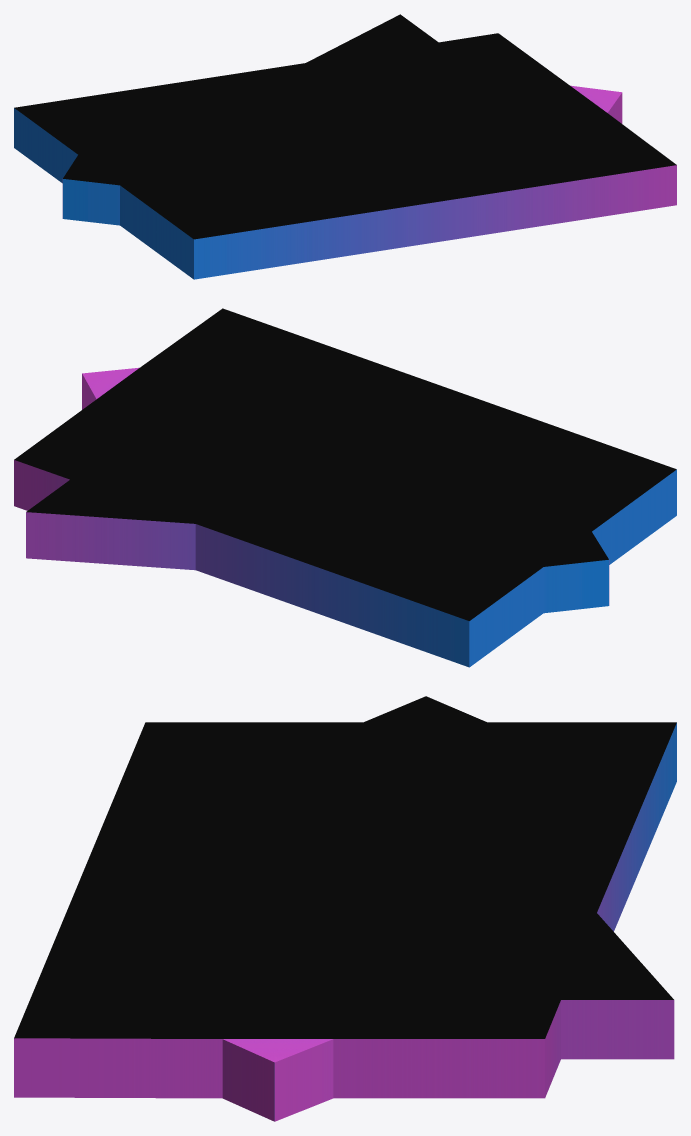
Rendered from END.obj.
The picture shows the model from 3 angles, top to bottom: view 1: azimuth 30°, elevation 25°; view 2: azimuth 150°, elevation 25°; view 3: azimuth 270°, elevation 25°; orthographic projection. The views are drawn at different scales.
Visible parts, largest first — view 1: cccc, Layer0_001; view 2: cccc, Layer0_001; view 3: cccc, Layer0_001.
Boxes of the visible parts, x1,y1,x2,y2 form: cccc: (14, 14, 676, 239); Layer0_001: (14, 85, 676, 279); cccc: (14, 308, 676, 620); Layer0_001: (14, 367, 676, 667); cccc: (14, 696, 676, 1038); Layer0_001: (14, 723, 676, 1121).
Bounding box in the file's own units: 156 × 13.02 × 120.
2 materials, 1 textured.
